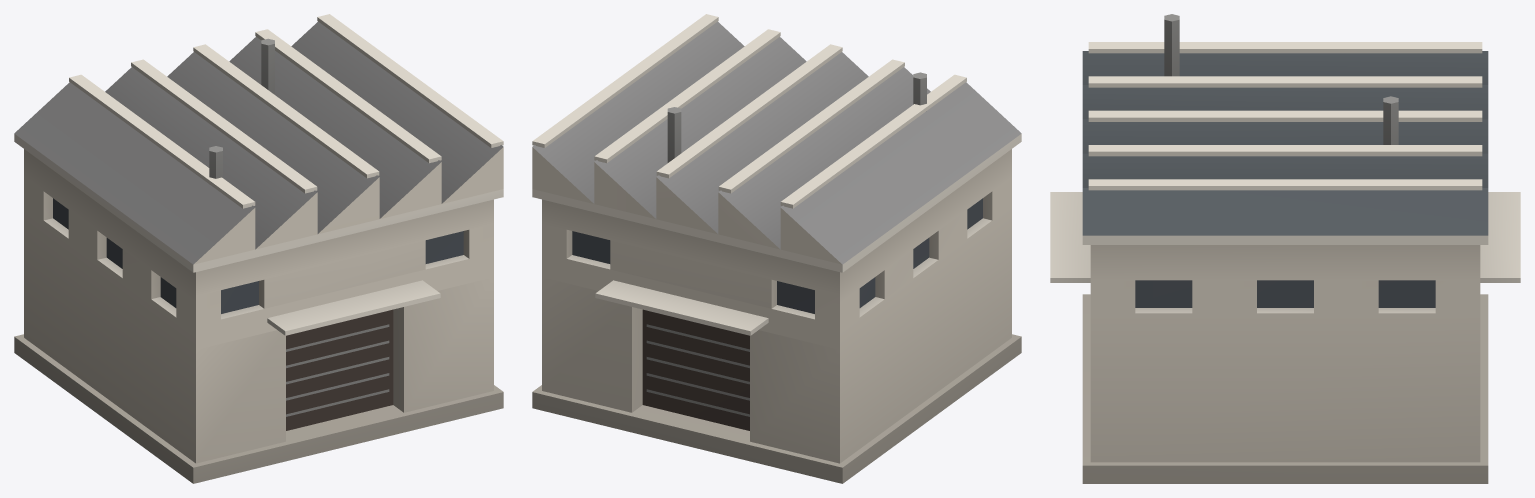
Rendered from building-warehouse-sawtooth.glb.
3 views of the same model, side by side, from view 1: azimuth 30°, elevation 25°; view 2: azimuth 150°, elevation 25°; view 3: azimuth 270°, elevation 25° (orthographic). The views are drawn at different scales.
Parts seen in each view (by area): view 1: Building; view 2: Building; view 3: Building.
Boxes of the visible parts, left/top/right/bottom form: Building: left=14, top=14, right=503, bottom=483; Building: left=532, top=14, right=1021, bottom=483; Building: left=1050, top=14, right=1520, bottom=483.
Size of the model in its own units: 1.01 by 0.895 by 1.16.
